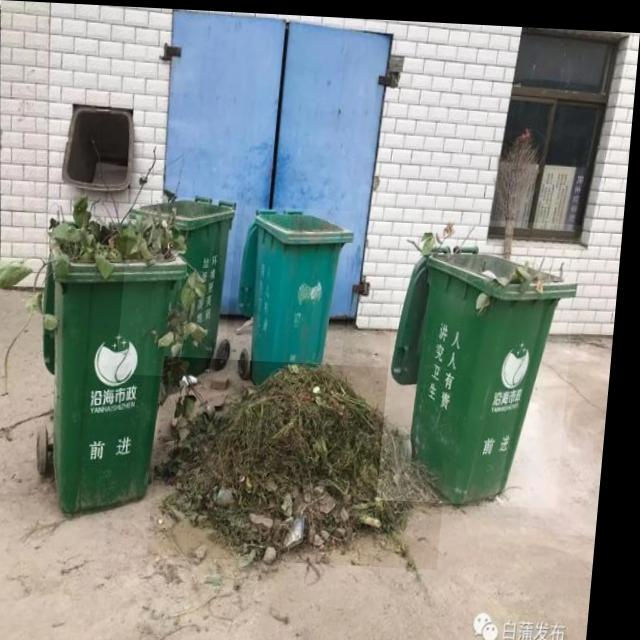garbage: (157, 354, 461, 565)
garbage_bin: (386, 212, 584, 503), (236, 203, 359, 382), (122, 193, 242, 376)
overflow: (0, 137, 224, 521)
